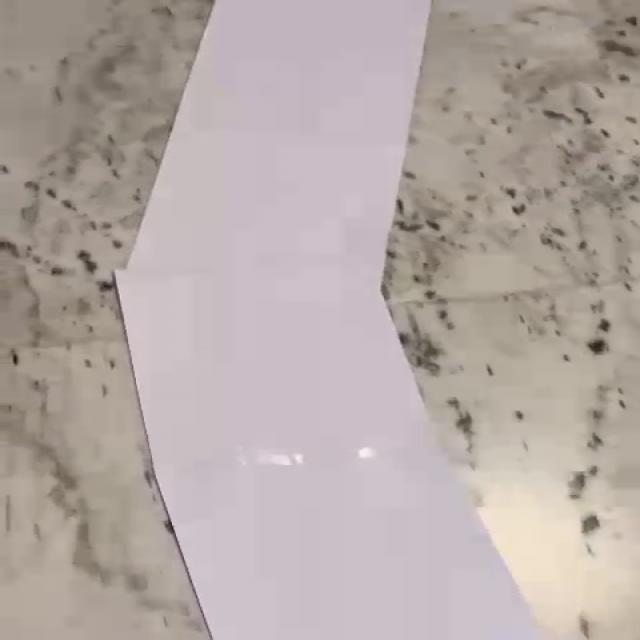road: (113, 0, 548, 640)
